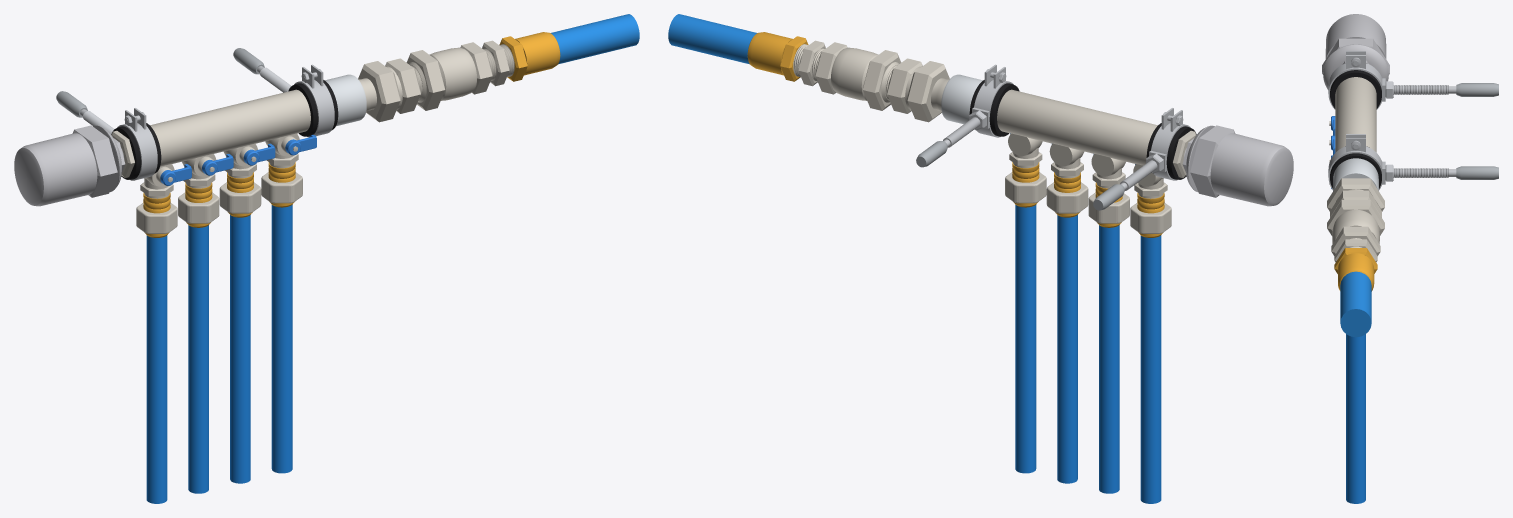
File: water_manifold_cw4_bl.glb
The picture shows the model from 3 angles, left to right: view 1: azimuth 30°, elevation 25°; view 2: azimuth 150°, elevation 25°; view 3: azimuth 270°, elevation 25°; orthographic projection. The views are drawn at different scales.
Visible parts, largest first — view 1: корпус, труба16.003, труба16, труба16.002, труба16.001, компенсатор крышка, подающая труба, корпус крана.004, сгон гайка, компенсатор SW47, удлинитель, гильза (+11 smaller); view 2: корпус, труба16.003, труба16, труба16.002, труба16.001, компенсатор крышка, подающая труба, корпус крана.004, сгон гайка, компенсатор SW47, удлинитель, гильза (+8 smaller); view 3: труба16.003, корпус, подающая труба, компенсатор крышка, компенсатор низ, удлинитель, корпус крана.004, сгон гайка, гильза, гайка американки, кран ВР, резинка (+11 smaller).
Boxes of the visible parts, <box> form: корпус: <box>150,89,310,166</box>; труба16.003: <box>271,205,292,473</box>; труба16: <box>146,235,167,503</box>; труба16.002: <box>230,215,250,483</box>; труба16.001: <box>188,225,208,493</box>; компенсатор крышка: <box>14,133,97,206</box>; подающая труба: <box>551,14,639,64</box>; корпус крана.004: <box>429,47,476,100</box>; сгон гайка: <box>358,61,400,122</box>; компенсатор SW47: <box>72,125,117,197</box>; удлинитель: <box>325,74,366,126</box>; гильза: <box>515,32,560,75</box>; корпус: <box>997,89,1157,165</box>; труба16.003: <box>1015,205,1036,473</box>; труба16: <box>1140,235,1161,503</box>; труба16.002: <box>1057,215,1077,483</box>; труба16.001: <box>1099,225,1119,493</box>; компенсатор крышка: <box>1210,133,1293,206</box>; подающая труба: <box>668,14,756,64</box>; корпус крана.004: <box>831,47,878,100</box>; сгон гайка: <box>907,61,949,122</box>; компенсатор SW47: <box>1190,125,1235,197</box>; удлинитель: <box>941,74,982,124</box>; гильза: <box>747,32,792,75</box>; труба16.003: <box>1346,334,1365,503</box>; корпус: <box>1335,77,1376,152</box>; подающая труба: <box>1340,271,1371,337</box>; компенсатор крышка: <box>1325,14,1386,58</box>; компенсатор низ: <box>1323,44,1388,89</box>; удлинитель: <box>1333,158,1378,190</box>; корпус крана.004: <box>1332,209,1379,243</box>; сгон гайка: <box>1327,178,1384,211</box>; гильза: <box>1338,253,1374,291</box>; гайка американки: <box>1327,200,1384,235</box>; кран ВР: <box>1331,226,1380,255</box>; резинка: <box>1330,63,1381,108</box>.
Size of the model in its own units: 0.536 by 0.3322 by 0.1411.
